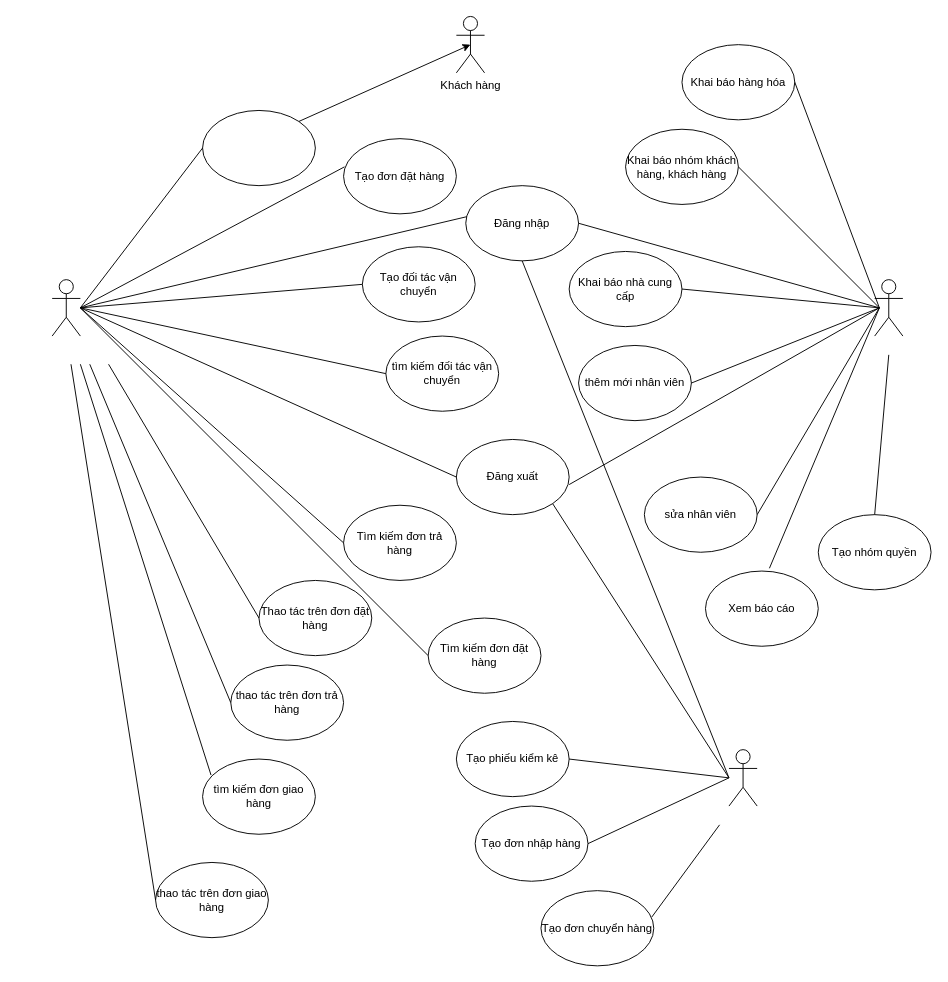
This 948x982 diagram has some shape labels left out. Here are the shapes that lost their labels. From the top down, the centre of each, then its label:
point (258, 148): Tạo đơn bán hàng trực tiếp
point (65, 307): Nhân viên bán hàng
point (888, 307): Quản lý
point (742, 777): Nhân viên thủ kho
